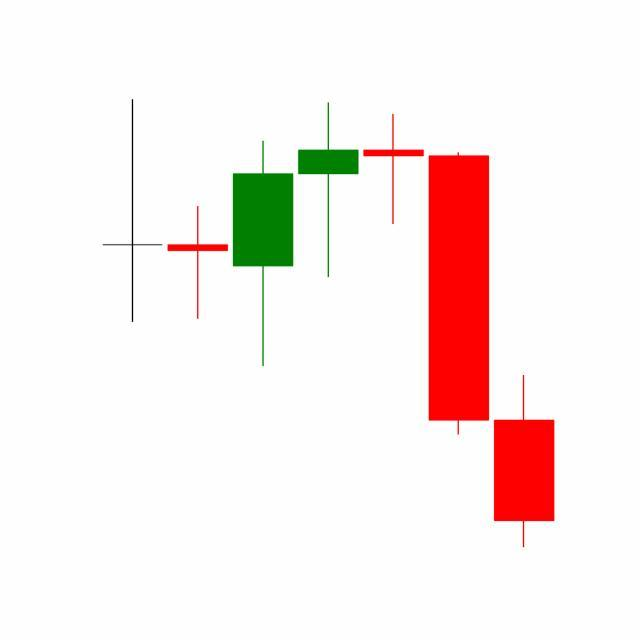Hikkake Pattern: (165, 99, 492, 439)
